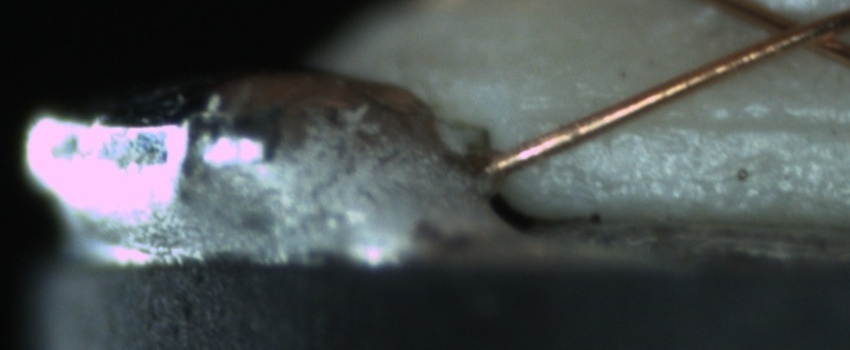CL: (742, 2, 841, 60)
DL: (550, 88, 850, 154)
